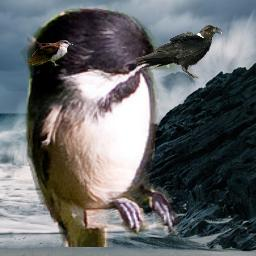Crow: (133, 24, 223, 80)
Cuckoo: (27, 22, 73, 67)
Swallow: (21, 1, 186, 247)
